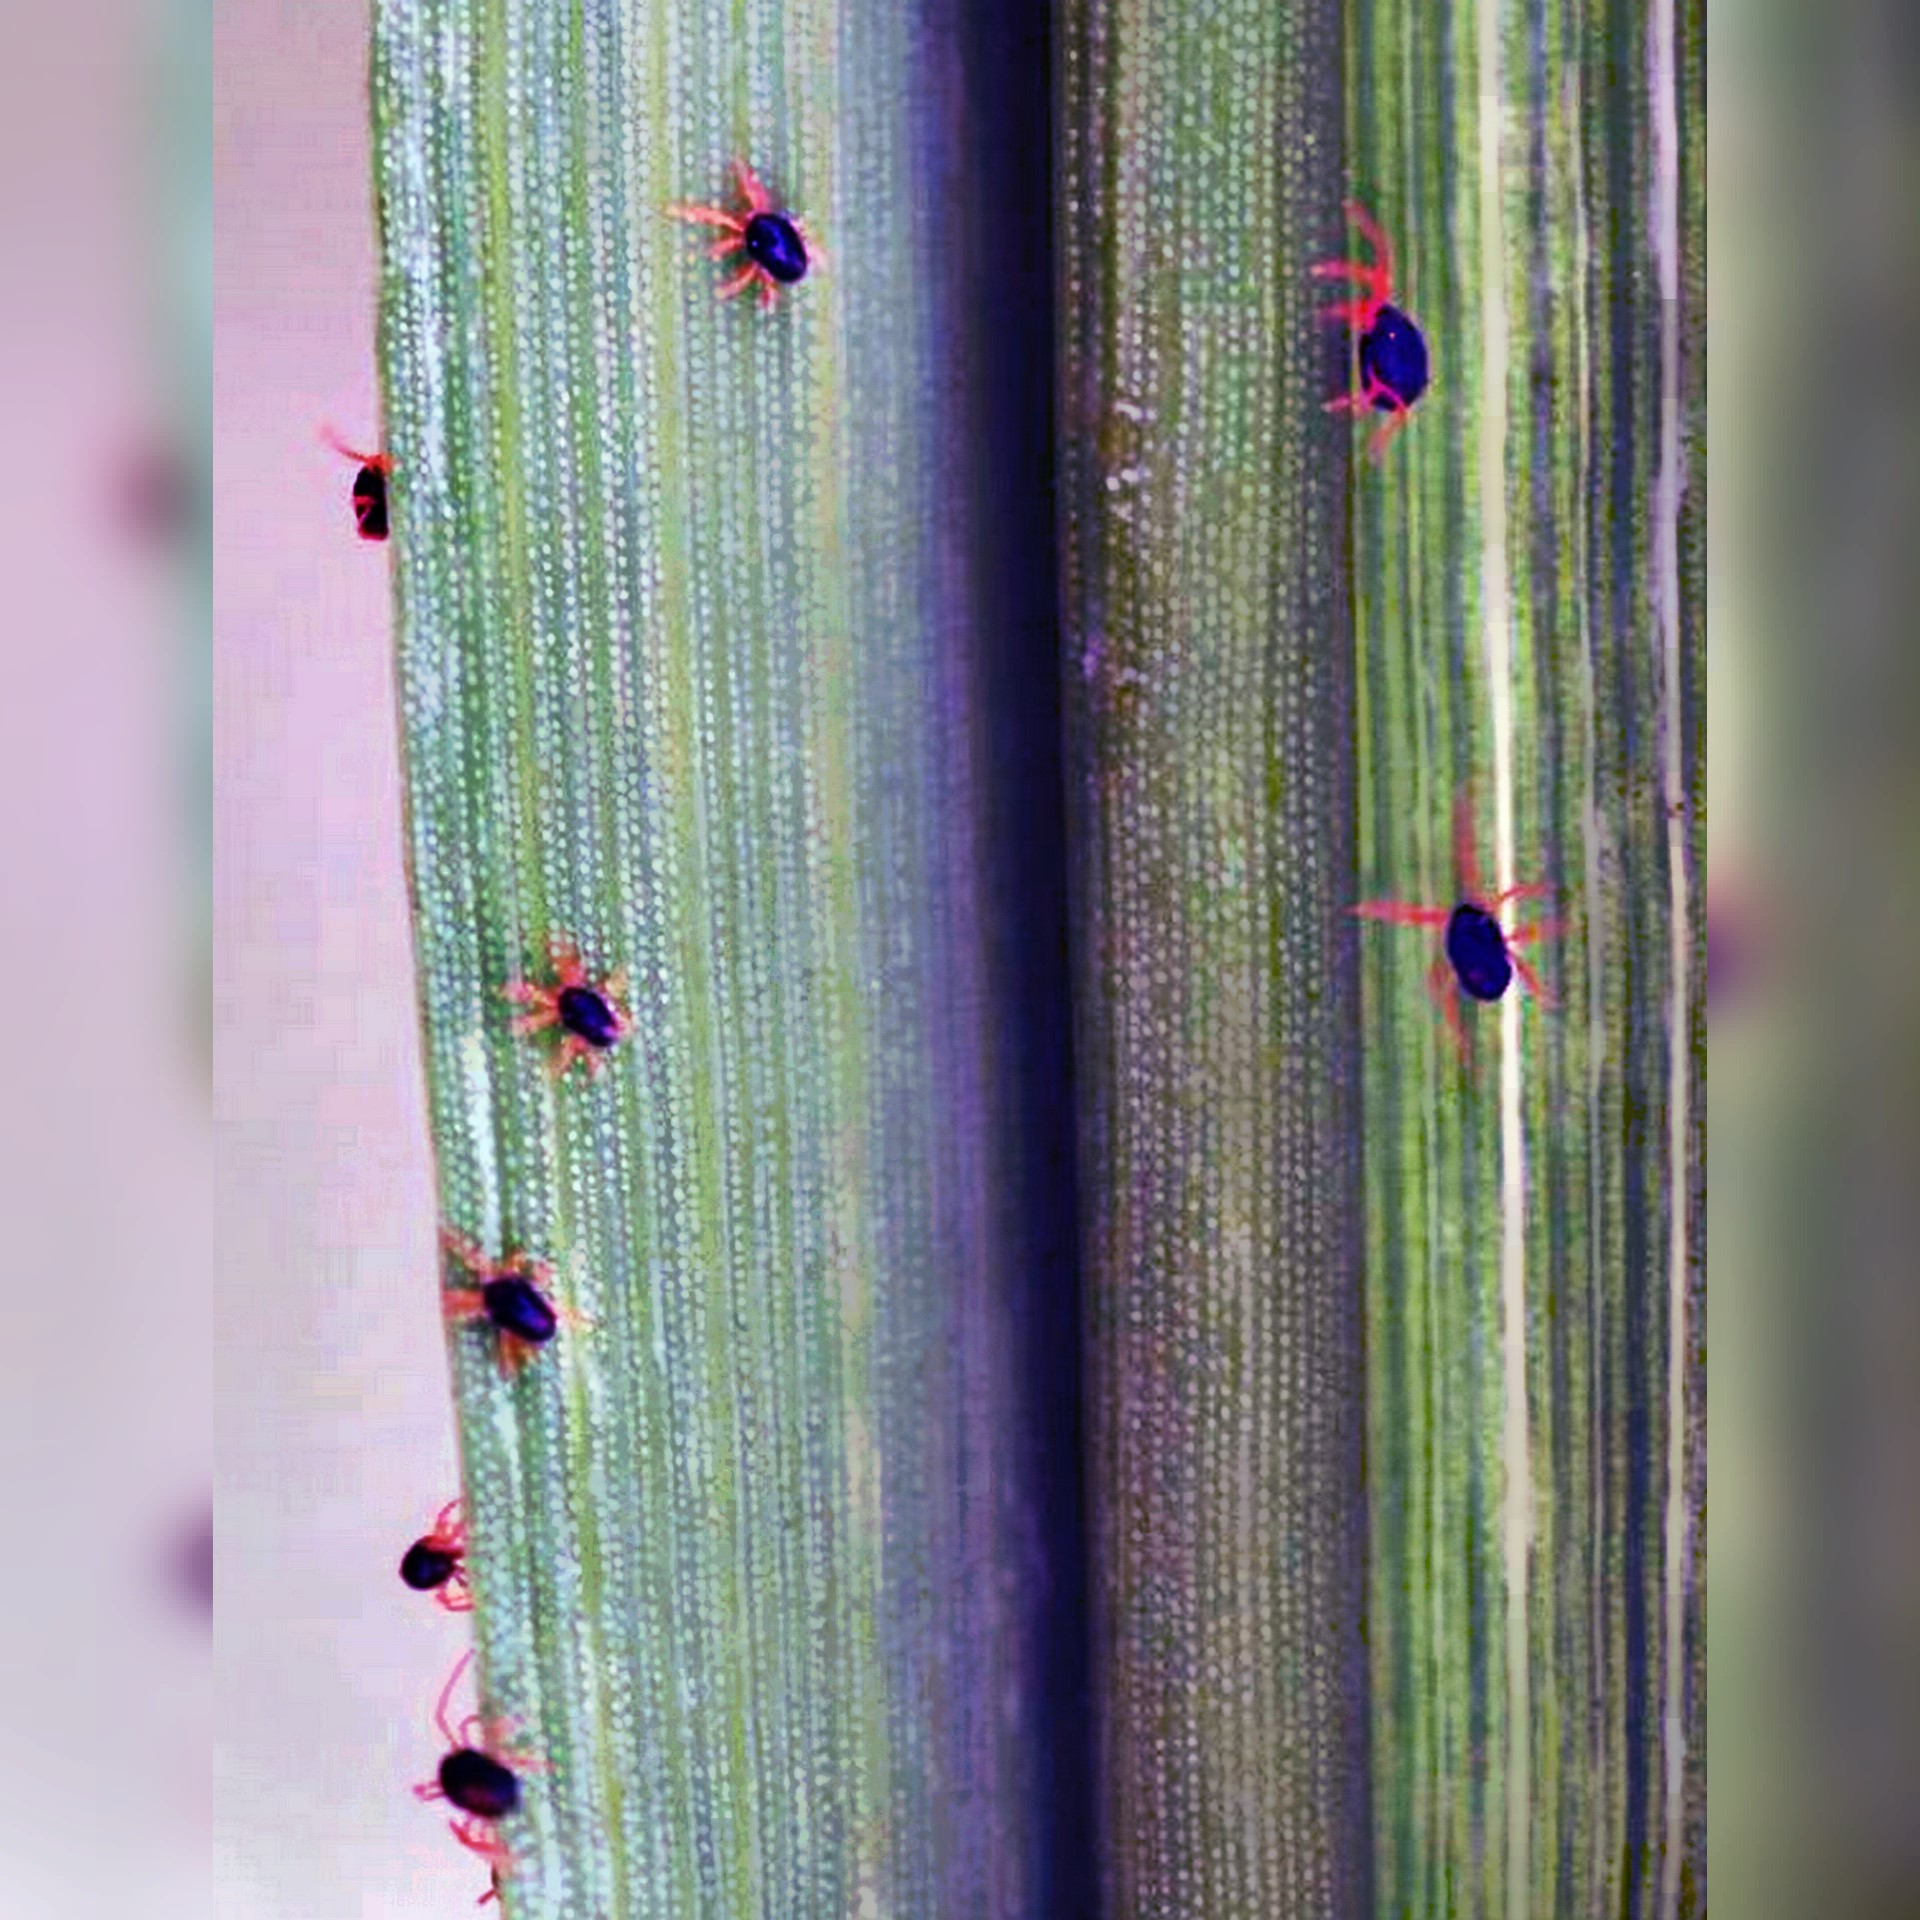Wheat Red Spider: (1291, 186, 1445, 462)
